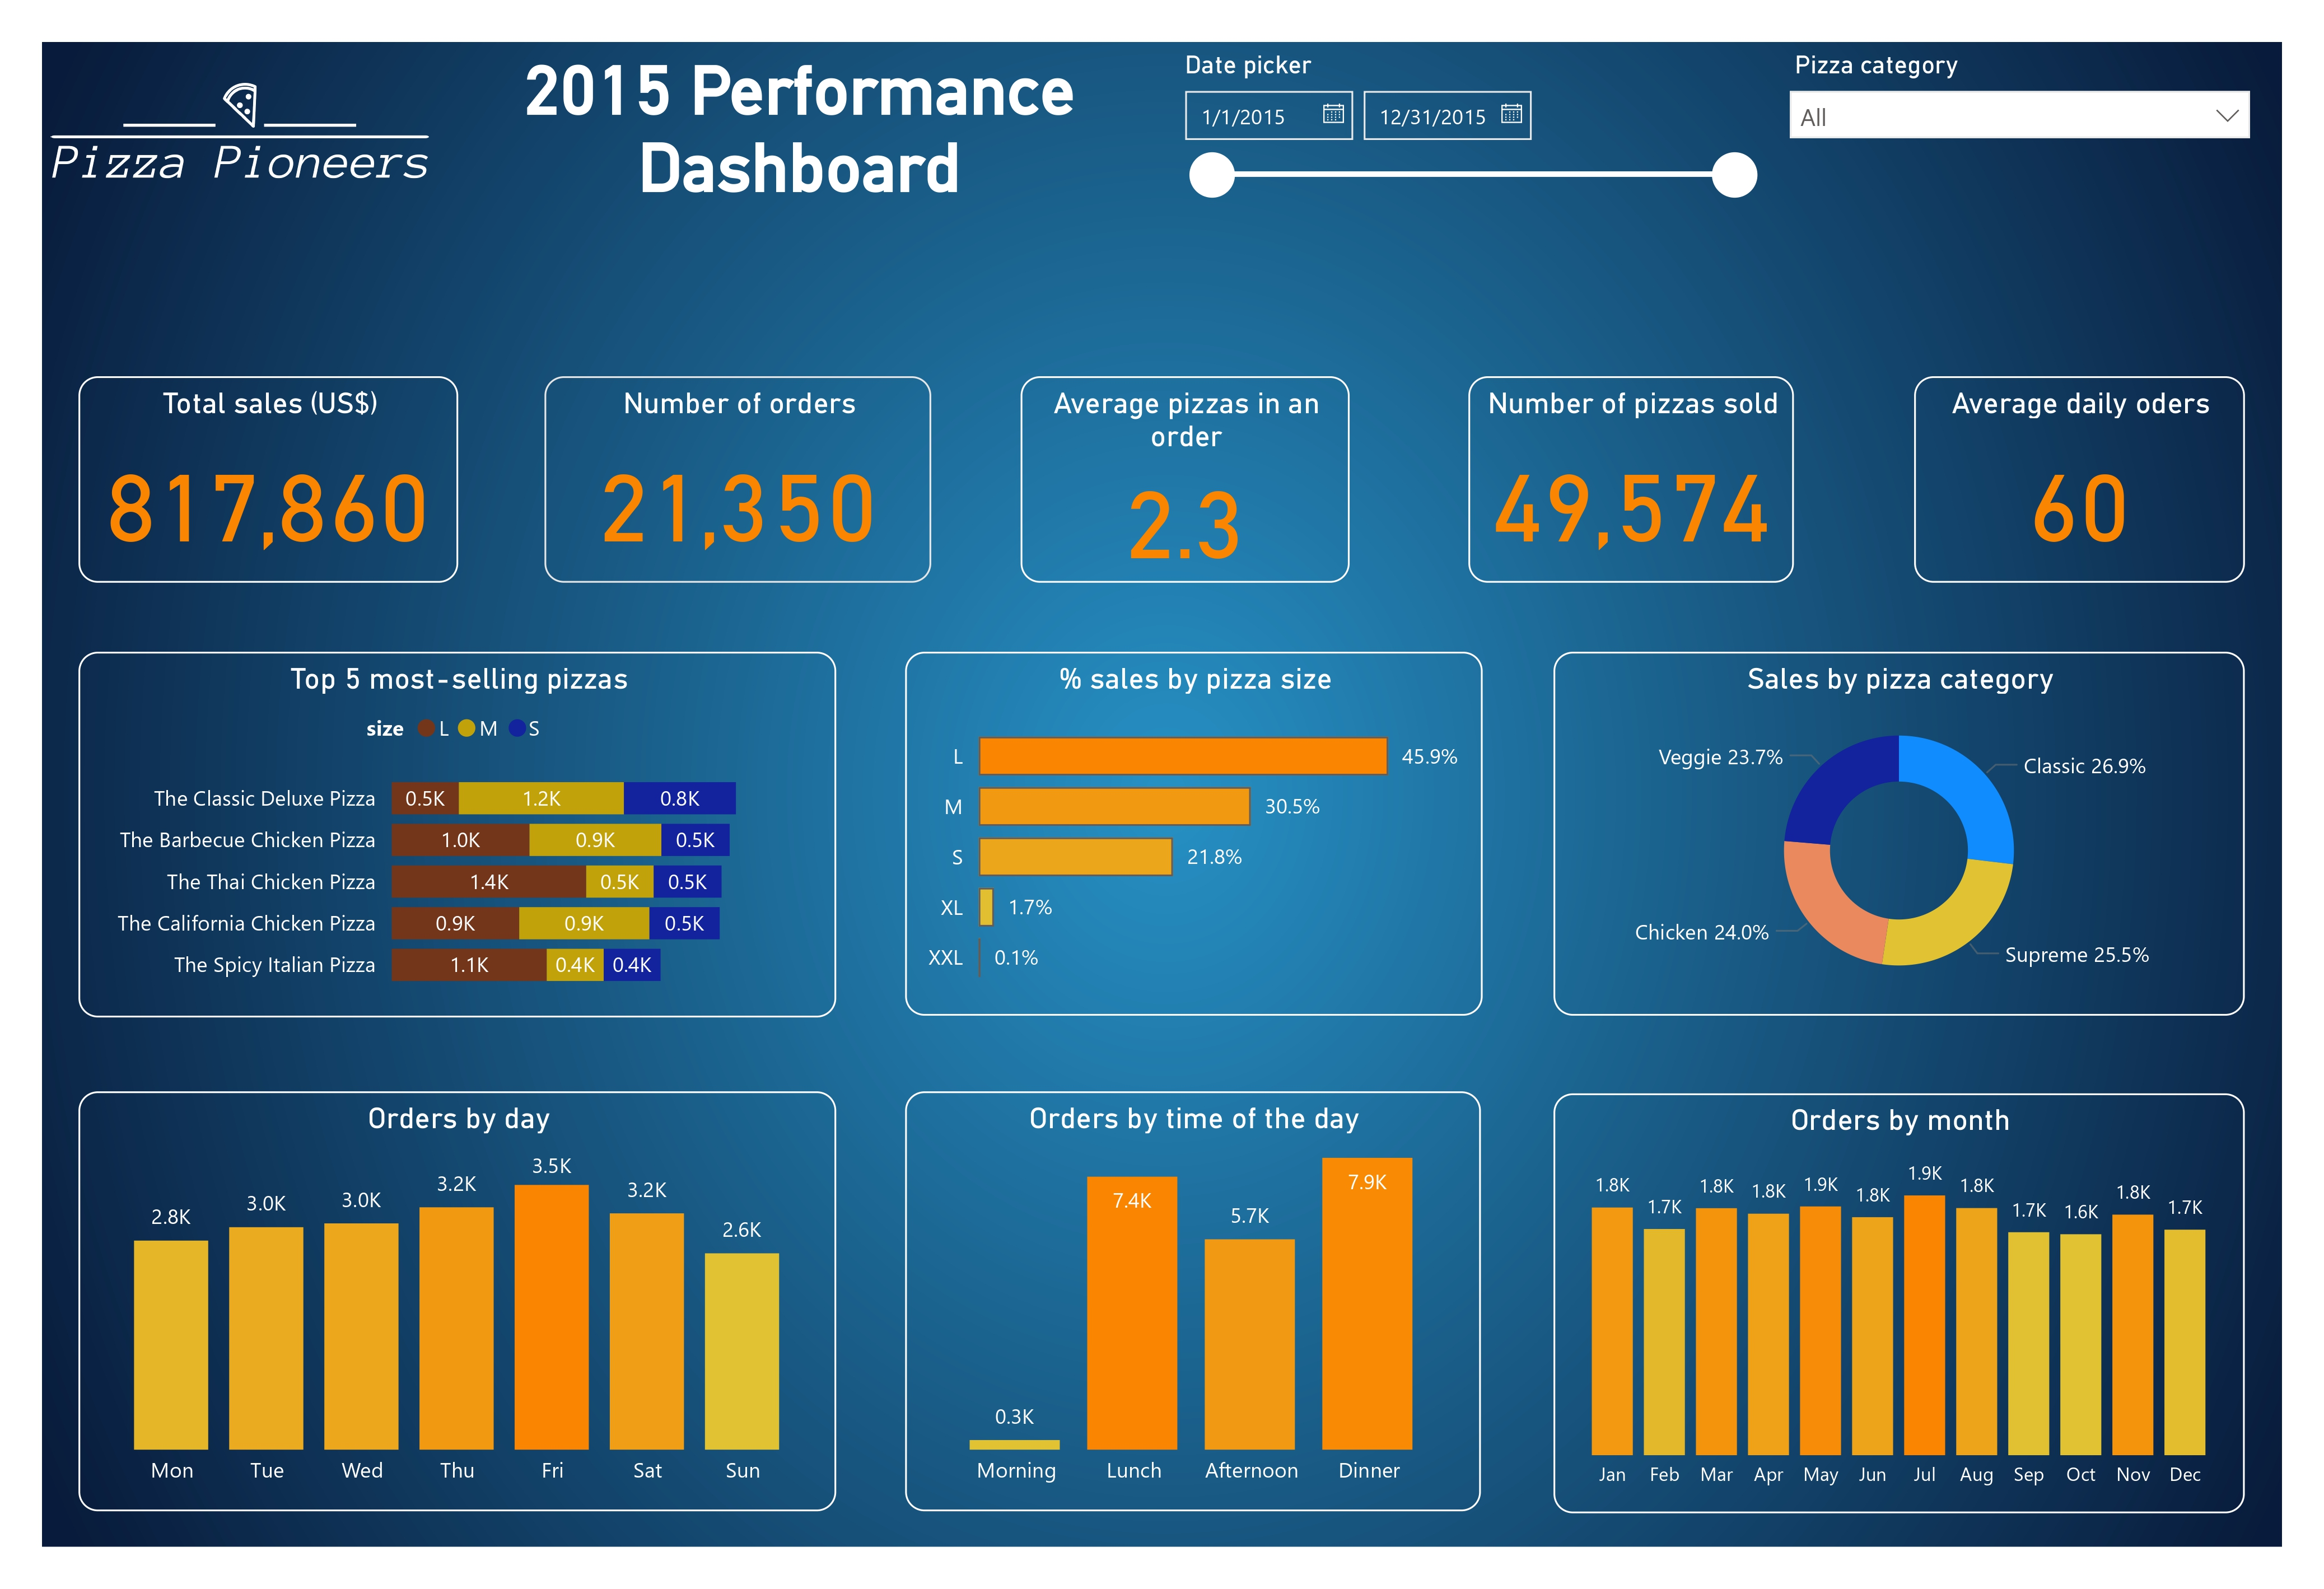

What the dashboard file says about the page in this screenshot:
{"tool":"powerbi","page":{"name":"Dashboard","canvas":[1280,860],"ordinal":0},"visuals":[{"type":"columnChart","title":"Orders by time of the day","fields":{"Category":["orders.Time_of_the_day"],"Y":["All Measures.orders"]},"box":[492.8,599.6,329,240],"z":0},{"type":"clusteredColumnChart","title":"Orders by day","fields":{"Category":["date_table.Day Hierarchy.Day"],"Y":["All Measures.orders"]},"box":[21.1,599.6,433.2,240],"z":1000},{"type":"clusteredBarChart","title":"% sales by pizza size","fields":{"Category":["pizzas.size"],"Y":["Divide(All Measures.total_sales, ScopedEval(All Measures.total_sales, []))"]},"box":[493.2,348.5,330,208.4],"z":2000},{"type":"barChart","title":"Top 5 most-selling pizzas","fields":{"Y":["All Measures.orders"],"Category":["pizza_types.name"],"Series":["pizzas.size"]},"box":[21.1,348.8,433.2,208.5],"z":3000},{"type":"card","title":"Number of orders","fields":{"Values":["All Measures.orders"]},"box":[287.1,191,221.1,118.1],"z":4000},{"type":"slicer","fields":{"Values":["pizza_types.category","pizza_types.name"]},"box":[988.6,0,282.9,101.4],"z":5000},{"type":"slicer","fields":{"Values":["orders.date"]},"box":[640.4,0,348.2,172.8],"z":6000},{"type":"card","title":"Total sales (US$)","fields":{"Values":["All Measures.total_sales"]},"box":[20.8,191,216.5,118.1],"z":7000},{"type":"card","title":"Average daily oders","fields":{"Values":["All Measures.average_orders_daily"]},"box":[1070,191.2,188.7,117.9],"z":8000},{"type":"card","title":"Average pizzas in an order","fields":{"Values":["All Measures.average pizzas in an order"]},"box":[559.2,191,187.6,118.1],"z":9000},{"type":"card","title":"Number of pizzas sold","fields":{"Values":["Sum(order_details.quantity)"]},"box":[815.1,191,186.4,118.1],"z":10000},{"type":"clusteredColumnChart","title":"Orders by month","fields":{"Category":["date_table.Month"],"Y":["All Measures.orders"]},"box":[863.7,600.9,394.8,240],"z":11000},{"type":"donutChart","title":"Sales by pizza category","fields":{"Category":["pizza_types.category"],"Y":["All Measures.total_sales"]},"box":[863.7,348.5,394.8,208.4],"z":12000},{"type":"textbox","box":[226,0,414.4,127.3],"z":13000},{"type":"image","box":[0,0,225.7,101.4],"z":14000}]}

Visuals, with their boxes in screenshot pixels (x1, y1, x2, y2):
"Orders by time of the day" columnChart: {"left": 904, "top": 1091, "right": 1480, "bottom": 1511}
"Orders by day" clusteredColumnChart: {"left": 79, "top": 1091, "right": 837, "bottom": 1511}
"% sales by pizza size" clusteredBarChart: {"left": 905, "top": 652, "right": 1483, "bottom": 1017}
"Top 5 most-selling pizzas" barChart: {"left": 79, "top": 652, "right": 837, "bottom": 1017}
"Number of orders" card: {"left": 544, "top": 376, "right": 931, "bottom": 583}
slicer - pizza_types.category x pizza_types.name: {"left": 1772, "top": 42, "right": 2267, "bottom": 219}
slicer - orders.date: {"left": 1163, "top": 42, "right": 1772, "bottom": 344}
"Total sales (US$)" card: {"left": 78, "top": 376, "right": 458, "bottom": 583}
"Average daily oders" card: {"left": 1915, "top": 377, "right": 2244, "bottom": 583}
"Average pizzas in an order" card: {"left": 1021, "top": 376, "right": 1349, "bottom": 583}
"Number of pizzas sold" card: {"left": 1468, "top": 376, "right": 1795, "bottom": 583}
"Orders by month" clusteredColumnChart: {"left": 1553, "top": 1093, "right": 2244, "bottom": 1513}
"Sales by pizza category" donutChart: {"left": 1553, "top": 652, "right": 2244, "bottom": 1017}
textbox: {"left": 437, "top": 42, "right": 1163, "bottom": 265}
image: {"left": 42, "top": 42, "right": 437, "bottom": 219}
